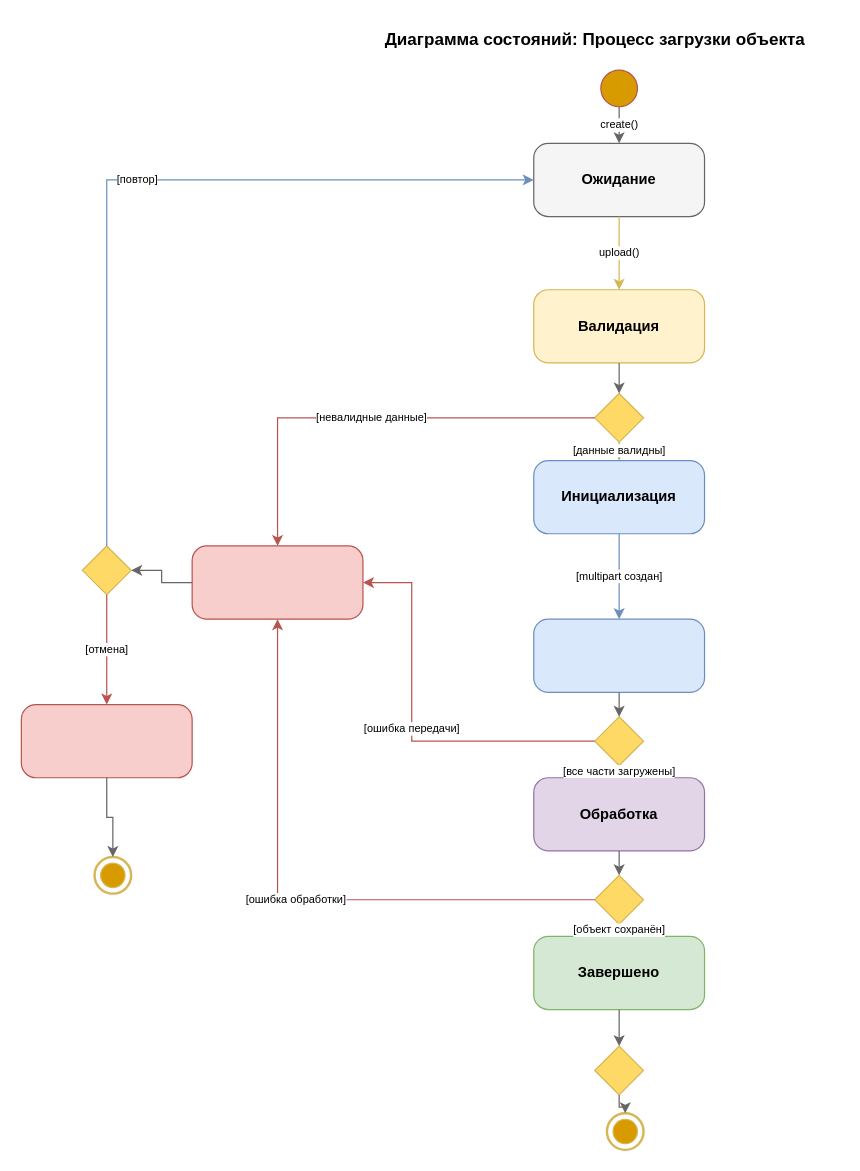
This 860x1171 diagram has some shape labels left out. The shapes that lost their labels are listed below. From the top down, each one's centre as x and y in pixels, then its label:
At [277,582]: "Ошибка".
At [619,655]: "Передача данных".
At [106,740]: "Отменено".
